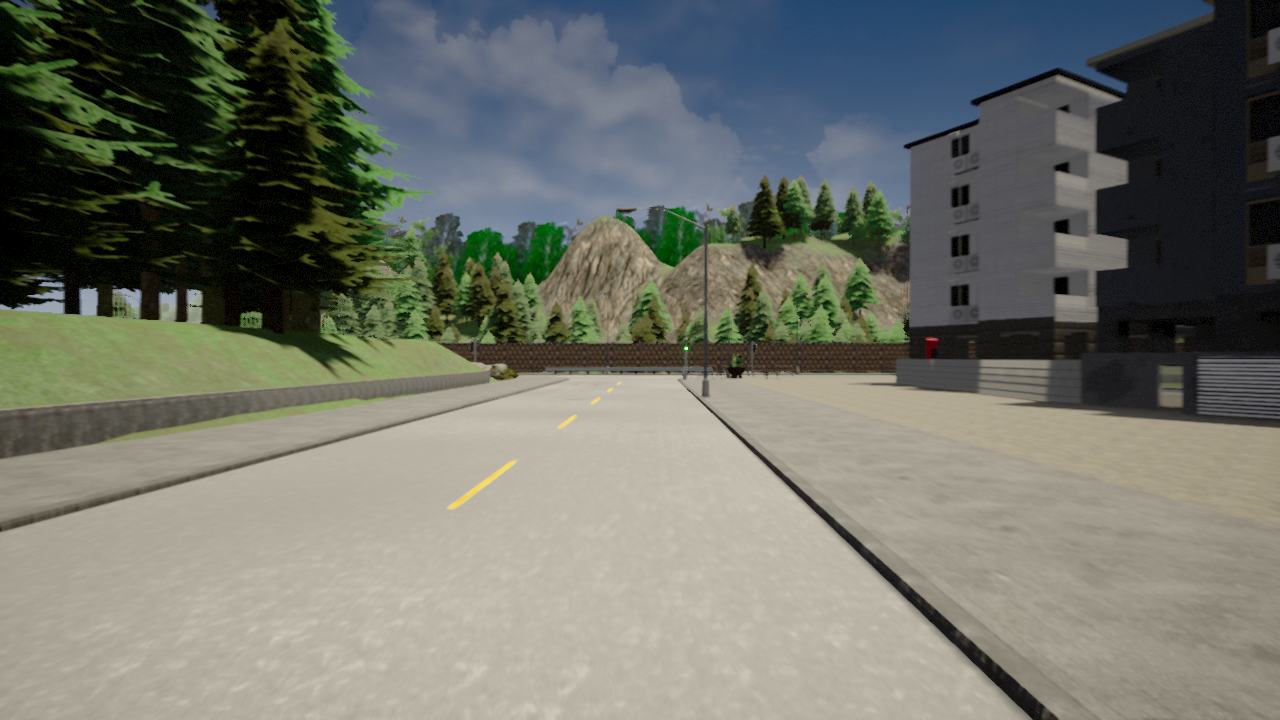green: (682, 338, 689, 352)
